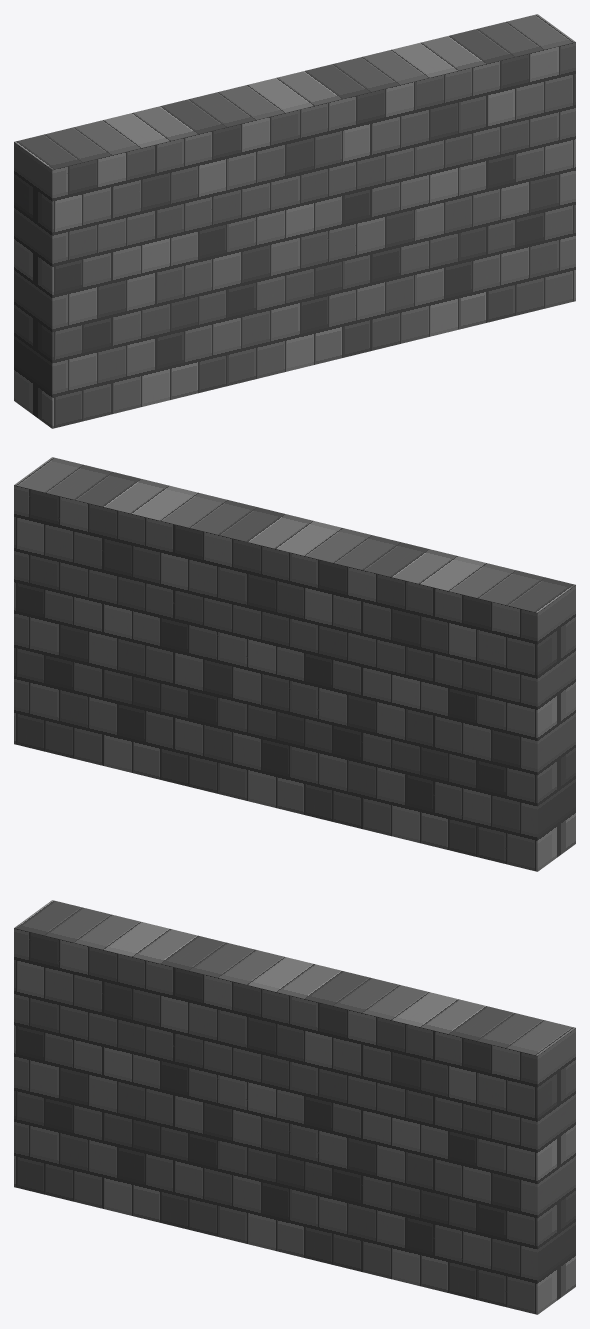
3 views of the same model, one above another, from view 1: azimuth 30°, elevation 25°; view 2: azimuth 150°, elevation 25°; view 3: azimuth 330°, elevation 25° (orthographic).
Parts seen in each view (by area): view 1: mesh_1; view 2: mesh_1; view 3: mesh_1.
Boxes of the visible parts, left/top/right/bottom form: mesh_1: left=14, top=14, right=575, bottom=428; mesh_1: left=14, top=457, right=575, bottom=871; mesh_1: left=14, top=900, right=575, bottom=1314.
Bounding box in the file's own units: 31.57 × 14.92 × 4.
Materials: 1 (1 with a texture image).
